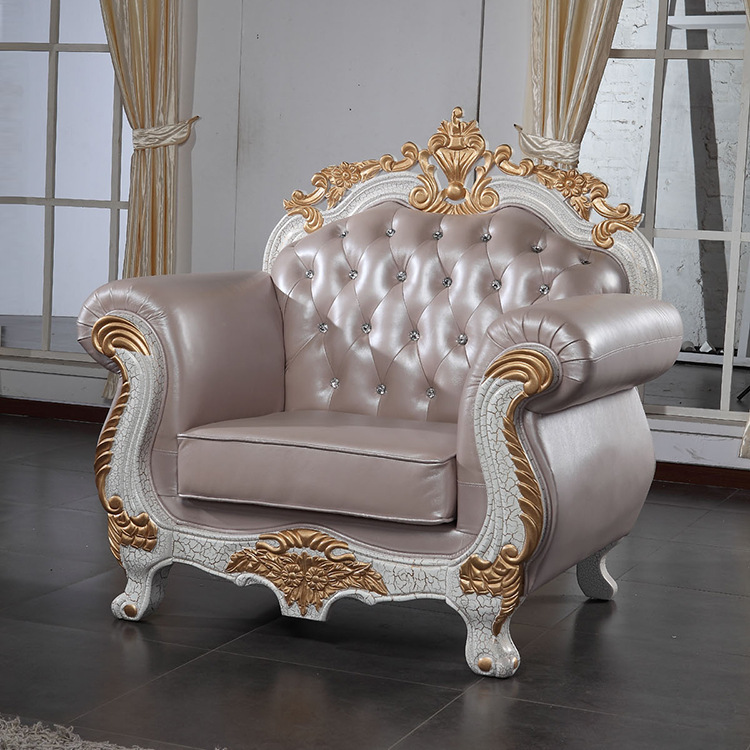Carving Chair: (99, 149, 662, 663)
